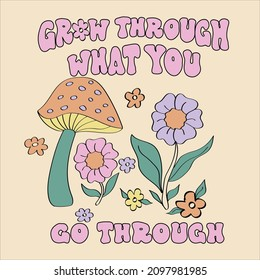flower: (131, 91, 216, 210), (74, 136, 120, 208), (174, 188, 207, 220), (121, 186, 155, 213), (22, 135, 51, 157), (125, 86, 146, 112), (118, 153, 136, 174), (75, 207, 95, 223)
